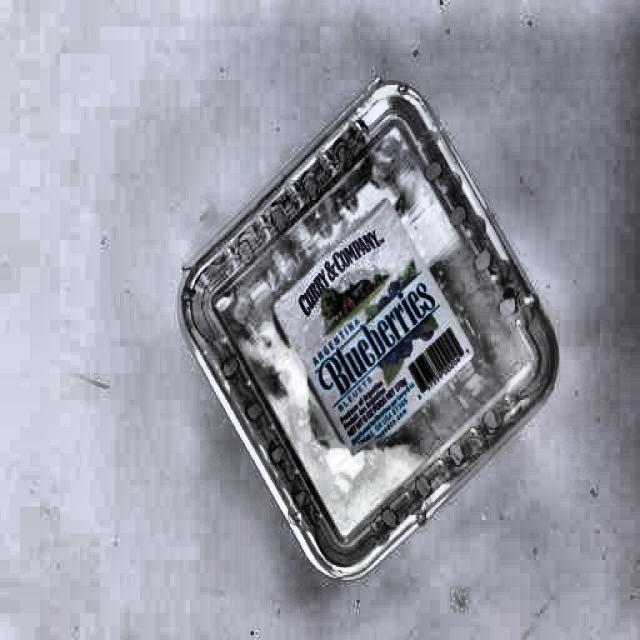plastic: (176, 80, 567, 571)
